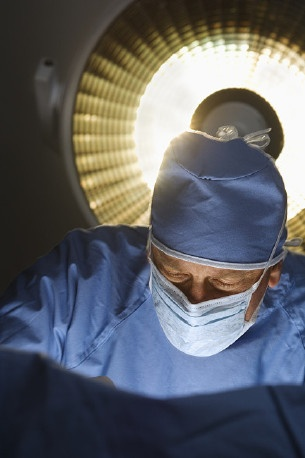Mask: (142, 239, 261, 358)
